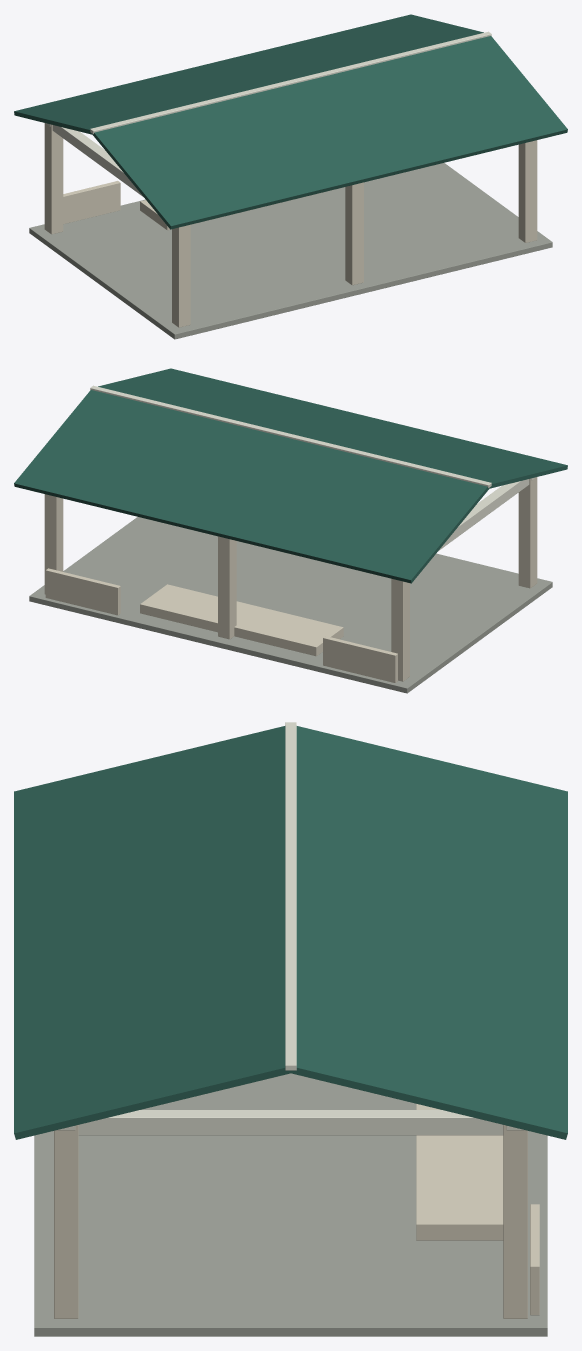
The model's file is hdb-multi-purpose-hall.glb.
3 views of the same model, one above another, from view 1: azimuth 30°, elevation 25°; view 2: azimuth 150°, elevation 25°; view 3: azimuth 270°, elevation 25° (orthographic). The views are drawn at different scales.
Visible parts, largest first — view 1: ROOF_Half_-1, PLATFORM, ROOF_Half_1, RIDGE_Cap, COLUMN_-5.5_3.5, COLUMN_5.5_-3.5, COLUMN_0_-3.5, COLUMN_-5.5_-3.5, REAR_LowWall_-4.4, BEAM_Cross_-5.5; view 2: ROOF_Half_1, PLATFORM, ROOF_Half_-1, REAR_Platform, REAR_LowWall_4.4, REAR_LowWall_-4.4, RIDGE_Cap, COLUMN_-5.5_-3.5, COLUMN_0_3.5, COLUMN_-5.5_3.5, COLUMN_5.5_3.5, BEAM_Cross_-5.5; view 3: ROOF_Half_-1, ROOF_Half_1, PLATFORM, BEAM_Cross_5.5, REAR_Platform, COLUMN_5.5_-3.5, COLUMN_5.5_3.5, RIDGE_Cap, REAR_LowWall_4.4.
Part boxes in pixels (x1,y1,x2,y2): ROOF_Half_-1: [92, 36, 567, 229]; PLATFORM: [29, 163, 552, 339]; ROOF_Half_1: [14, 14, 483, 134]; RIDGE_Cap: [90, 31, 491, 134]; COLUMN_-5.5_3.5: [44, 123, 63, 234]; COLUMN_5.5_-3.5: [518, 140, 537, 242]; COLUMN_0_-3.5: [345, 182, 363, 285]; COLUMN_-5.5_-3.5: [172, 224, 190, 327]; REAR_LowWall_-4.4: [63, 181, 120, 224]; BEAM_Cross_-5.5: [52, 125, 143, 196]; ROOF_Half_1: [14, 390, 489, 583]; PLATFORM: [29, 517, 552, 693]; ROOF_Half_-1: [98, 368, 567, 488]; REAR_Platform: [140, 584, 343, 656]; REAR_LowWall_4.4: [45, 568, 120, 615]; REAR_LowWall_-4.4: [323, 636, 397, 682]; RIDGE_Cap: [90, 385, 491, 488]; COLUMN_-5.5_-3.5: [518, 477, 537, 588]; COLUMN_0_3.5: [218, 536, 236, 639]; COLUMN_-5.5_3.5: [391, 578, 409, 681]; COLUMN_5.5_3.5: [44, 494, 63, 594]; BEAM_Cross_-5.5: [438, 479, 529, 550]; ROOF_Half_-1: [14, 726, 291, 1139]; ROOF_Half_1: [291, 726, 567, 1139]; PLATFORM: [34, 1073, 547, 1336]; BEAM_Cross_5.5: [78, 1110, 503, 1135]; REAR_Platform: [416, 1104, 503, 1240]; COLUMN_5.5_-3.5: [54, 1125, 78, 1318]; COLUMN_5.5_3.5: [503, 1125, 527, 1318]; RIDGE_Cap: [285, 722, 296, 1070]; REAR_LowWall_4.4: [530, 1204, 539, 1315].
Size of the model in its own units: 12.65 by 4.82 by 8.63.
